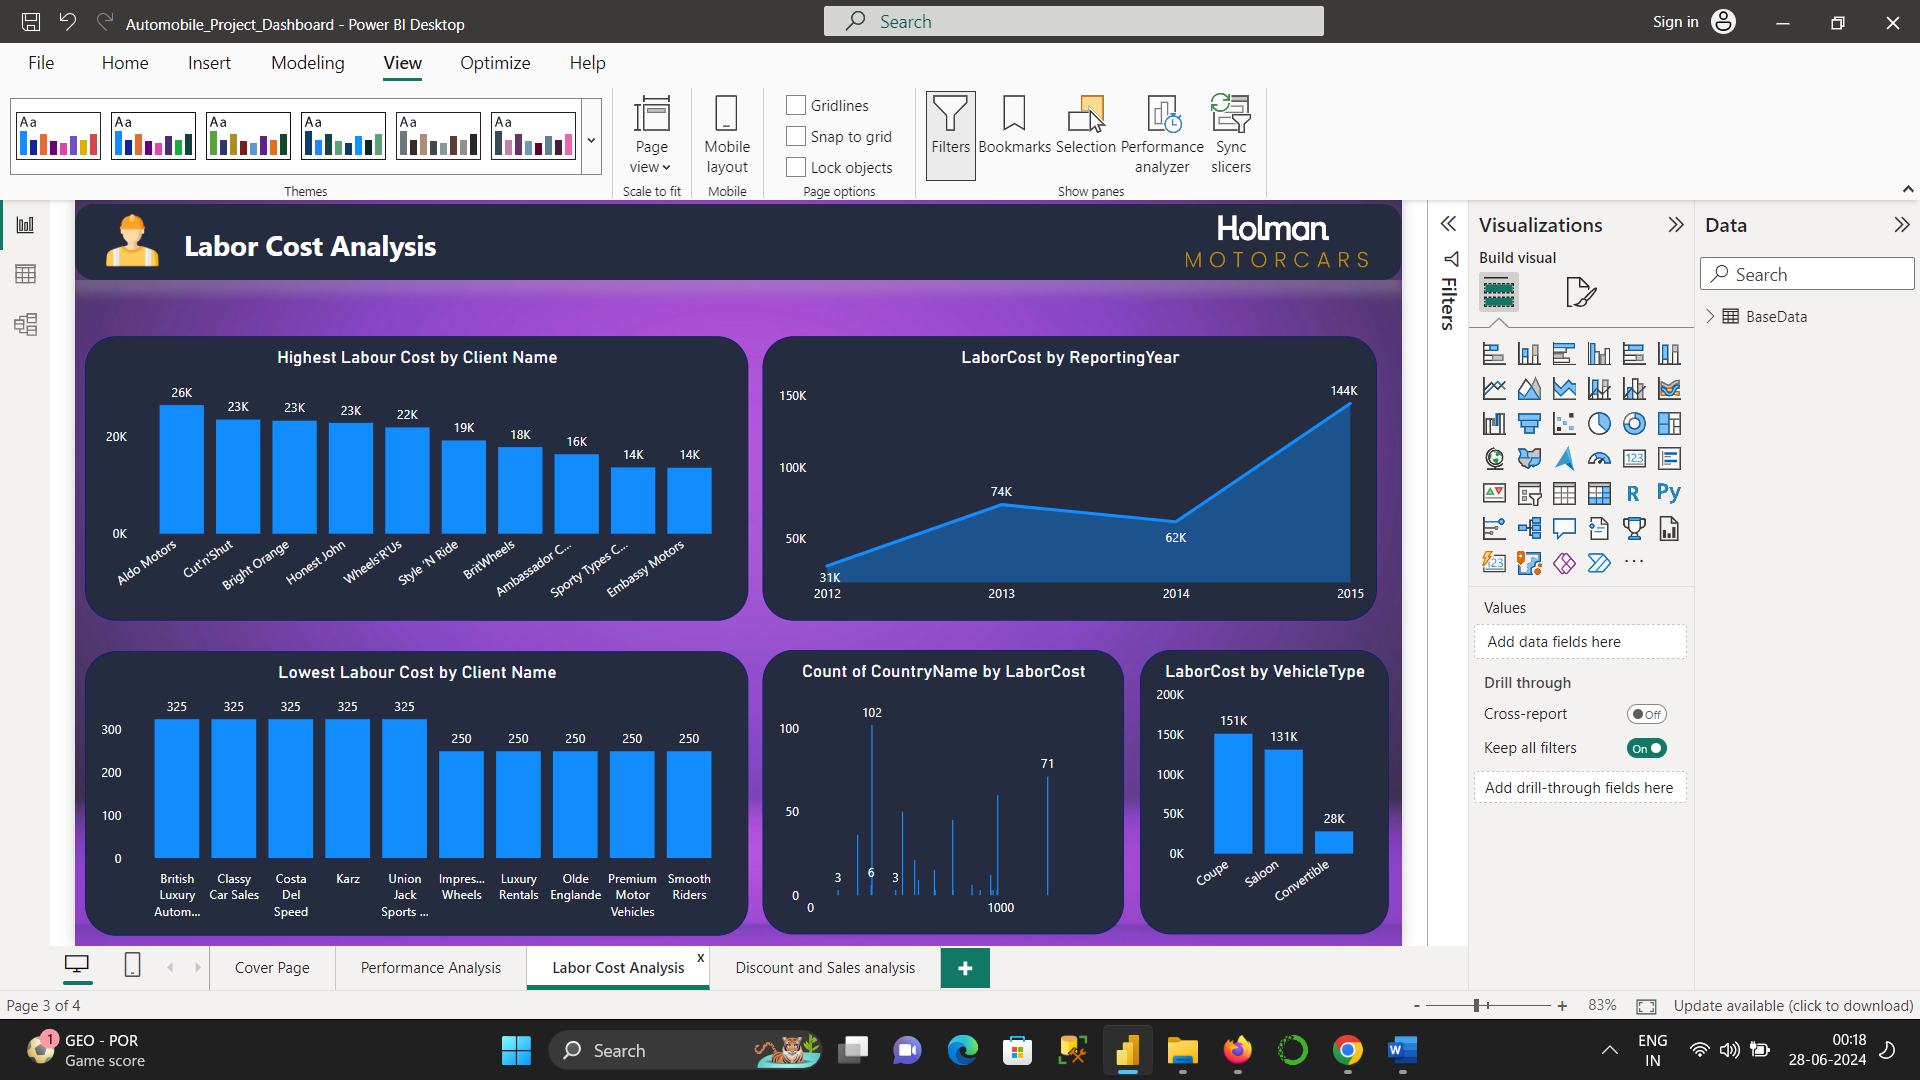

The page's visual inventory and layout, read from the dashboard file:
{"tool":"powerbi","page":{"name":"Labor Cost Analysis","canvas":[1280,720],"ordinal":2},"visuals":[{"type":"clusteredColumnChart","title":"Lowest Labour Cost by Client Name","fields":{"Y":["Sum(BaseData.LaborCost)"],"Category":["BaseData.ClientName"]},"box":[10,435.7,640,274.3],"z":0},{"type":"shape","box":[0,3.8,1280,73.8],"z":1000},{"type":"areaChart","fields":{"Y":["Sum(BaseData.LaborCost)"],"Category":["BaseData.ReportingYear"]},"box":[662.9,131.4,592.9,274.3],"z":2000},{"type":"clusteredColumnChart","title":"Highest Labour Cost by Client Name","fields":{"Category":["BaseData.ClientName"],"Y":["Sum(BaseData.LaborCost)"]},"box":[10,131.4,640,274.3],"z":3000},{"type":"columnChart","fields":{"Category":["BaseData.LaborCost"],"Y":["CountNonNull(BaseData.CountryName)"]},"box":[662.9,434.3,348.6,274.3],"z":4000},{"type":"image","box":[25.7,4.3,60,68.6],"z":5000},{"type":"textbox","box":[100,20,300,70],"z":6000},{"type":"columnChart","fields":{"Y":["Sum(BaseData.LaborCost)"],"Category":["BaseData.VehicleType"]},"box":[1027.1,434.3,240,274.3],"z":7000},{"type":"image","box":[1064.3,10,191.4,60],"z":8000}]}

Visuals, with their boxes on the page's 1280x720 design canvas (x1, y1, x2, y2). These are canvas units, not pixel positions in the 1920x1080 screenshot, which may show the page scaled, cropped or inside an application window:
"Lowest Labour Cost by Client Name" clusteredColumnChart: Rect(10, 436, 650, 710)
shape: Rect(0, 4, 1280, 78)
areaChart - Sum(BaseData.LaborCost) x BaseData.ReportingYear: Rect(663, 131, 1256, 406)
"Highest Labour Cost by Client Name" clusteredColumnChart: Rect(10, 131, 650, 406)
columnChart - BaseData.LaborCost x CountNonNull(BaseData.CountryName): Rect(663, 434, 1012, 709)
image: Rect(26, 4, 86, 73)
textbox: Rect(100, 20, 400, 90)
columnChart - Sum(BaseData.LaborCost) x BaseData.VehicleType: Rect(1027, 434, 1267, 709)
image: Rect(1064, 10, 1256, 70)
